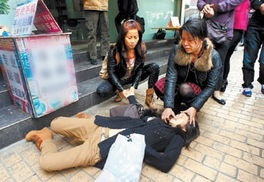falling: (24, 100, 206, 179)
